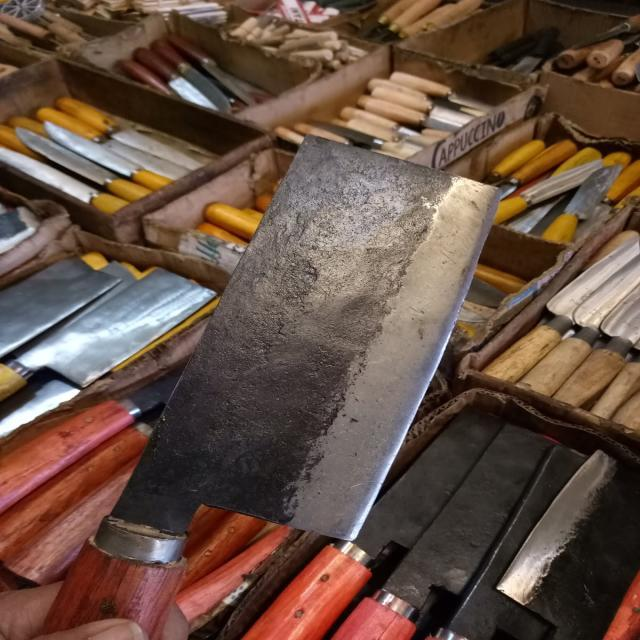Pisau: (49, 129, 513, 640)
